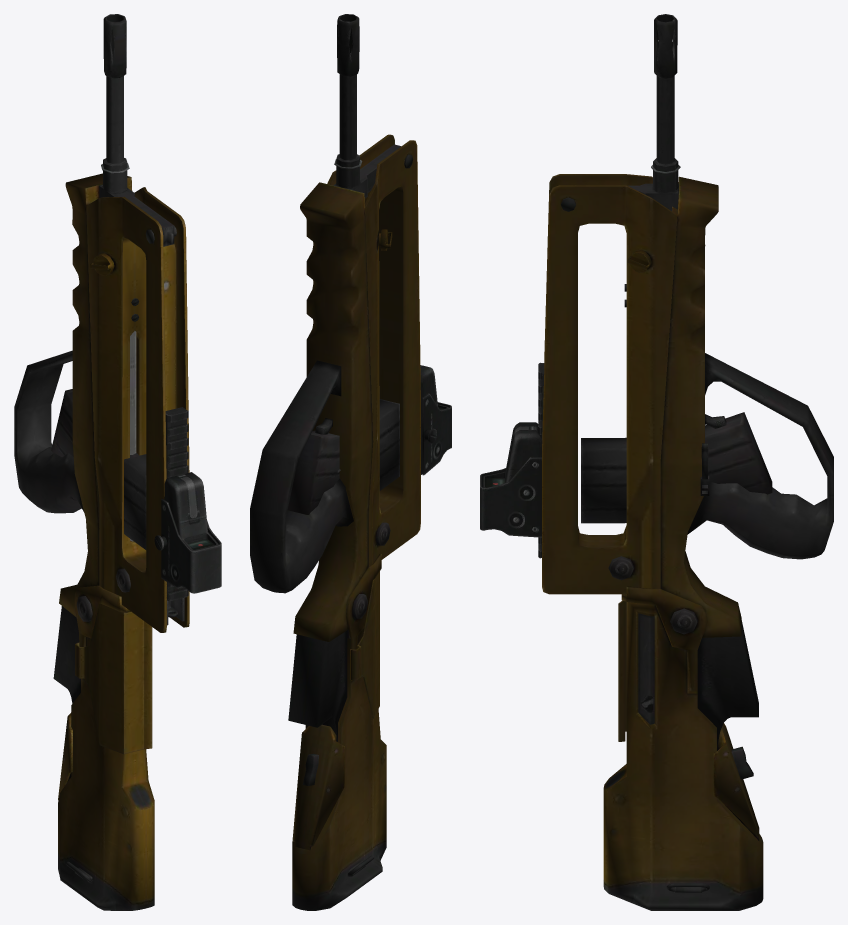
Rendered from FAMAS_G2_Commando_Gold.obj.
3 views of the same model, side by side, from view 1: azimuth 30°, elevation 25°; view 2: azimuth 150°, elevation 25°; view 3: azimuth 270°, elevation 25° (orthographic). The views are drawn at different scales.
Visible parts, largest first — view 1: Model_famas_G2, Model_dotsight, Model_Magazine, Model_Rail; view 2: Model_famas_G2, Model_Magazine, Model_dotsight; view 3: Model_famas_G2, Model_Magazine, Model_dotsight.
Boxes of the visible parts, x1,y1,x2,y2 form: Model_famas_G2: [14, 14, 189, 910]; Model_dotsight: [154, 472, 221, 593]; Model_Magazine: [51, 389, 146, 549]; Model_Rail: [165, 407, 188, 600]; Model_famas_G2: [250, 14, 420, 910]; Model_Magazine: [287, 399, 399, 514]; Model_dotsight: [420, 365, 451, 475]; Model_famas_G2: [542, 14, 833, 910]; Model_Magazine: [581, 412, 772, 523]; Model_dotsight: [480, 422, 541, 537].
Bounding box in the file's own units: 0.0607 × 0.7466 × 0.271.
3 materials, 3 textured.
